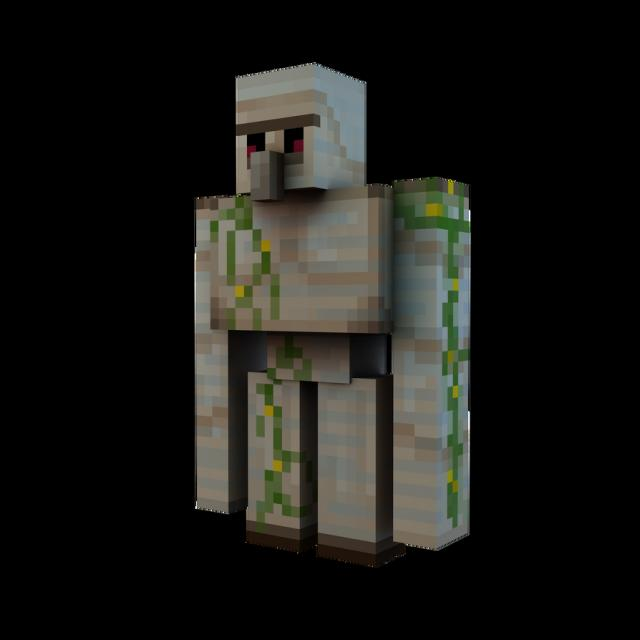Iron Golem: (194, 62, 475, 567)
